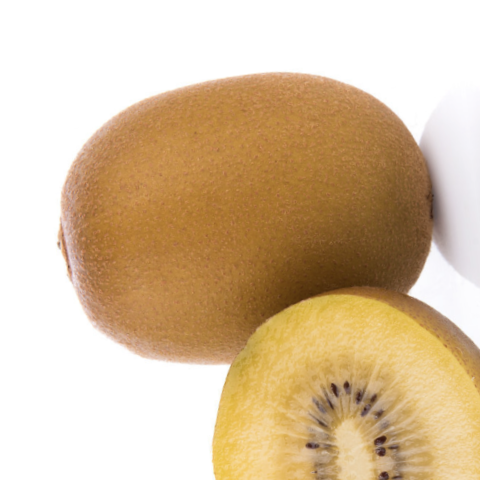kiwi: (19, 0, 480, 432)
